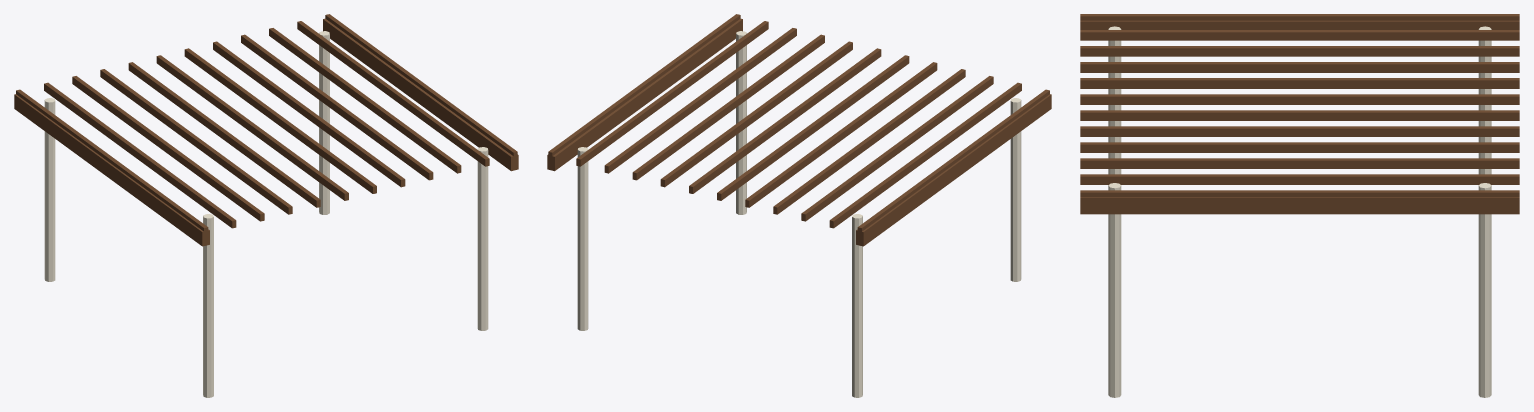
Rendered from Pergola.glb.
The picture shows the model from 3 angles, left to right: view 1: azimuth 30°, elevation 25°; view 2: azimuth 150°, elevation 25°; view 3: azimuth 270°, elevation 25°; orthographic projection. The views are drawn at different scales.
Visible parts, largest first — view 1: Pergola_Walnut, Pergola_Carved ivory; view 2: Pergola_Walnut, Pergola_Carved ivory; view 3: Pergola_Walnut, Pergola_Carved ivory.
Part boxes in pixels (x1=…): Pergola_Walnut: x1=14, y1=14, x2=518, y2=246; Pergola_Carved ivory: x1=44, y1=31, x2=488, y2=397; Pergola_Walnut: x1=547, y1=14, x2=1051, y2=246; Pergola_Carved ivory: x1=577, y1=31, x2=1021, y2=397; Pergola_Walnut: x1=1080, y1=14, x2=1519, y2=214; Pergola_Carved ivory: x1=1108, y1=26, x2=1491, y2=397.
Bounding box in the file's own units: 9.22 × 5.1 × 9.5.
